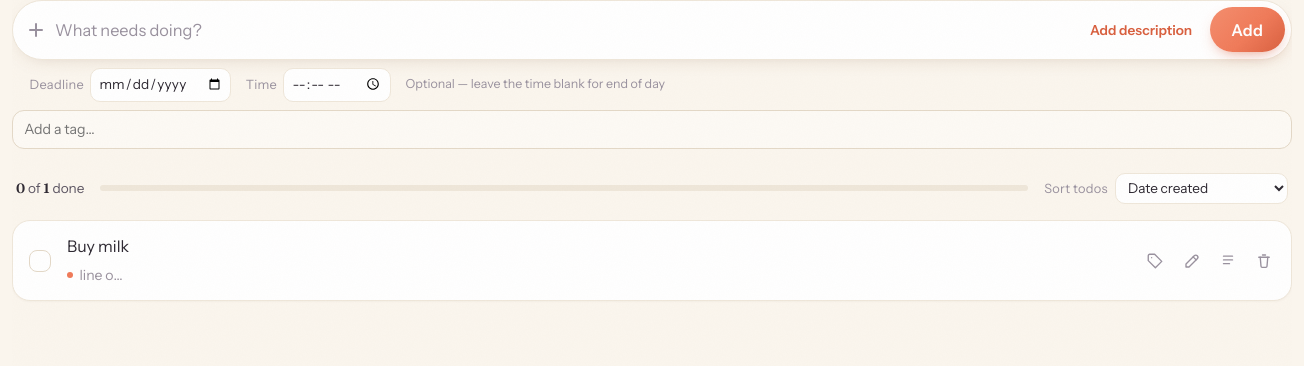
Test: TodoApp description display › shows a one-line preview that expands to the full text
Click the button named "Show description for \"Buy milk\"" at (96, 275), box [63,263,130,288]
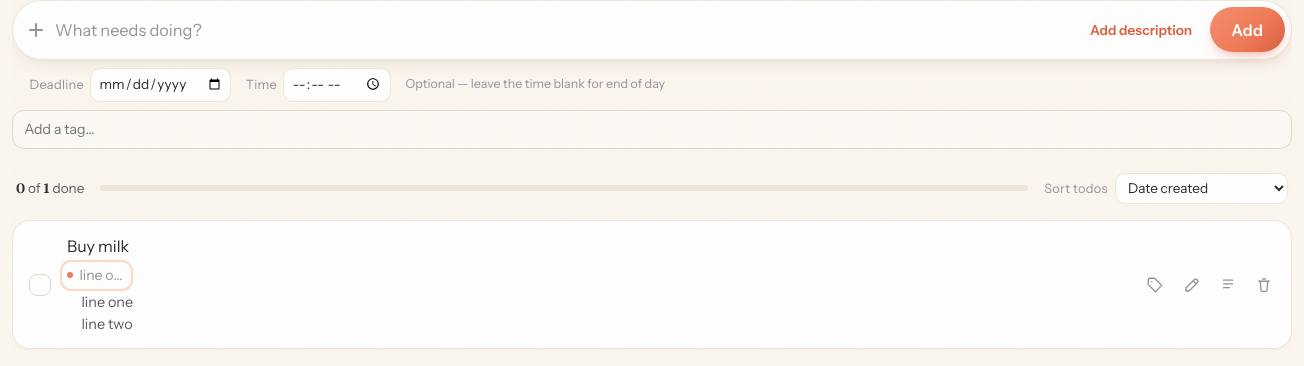
Check: the button named "Hide description for \"Buy milk\"" is expanded, box [63,263,130,288]
Check: the text "line one line two" is shown, box [81,293,133,333]
